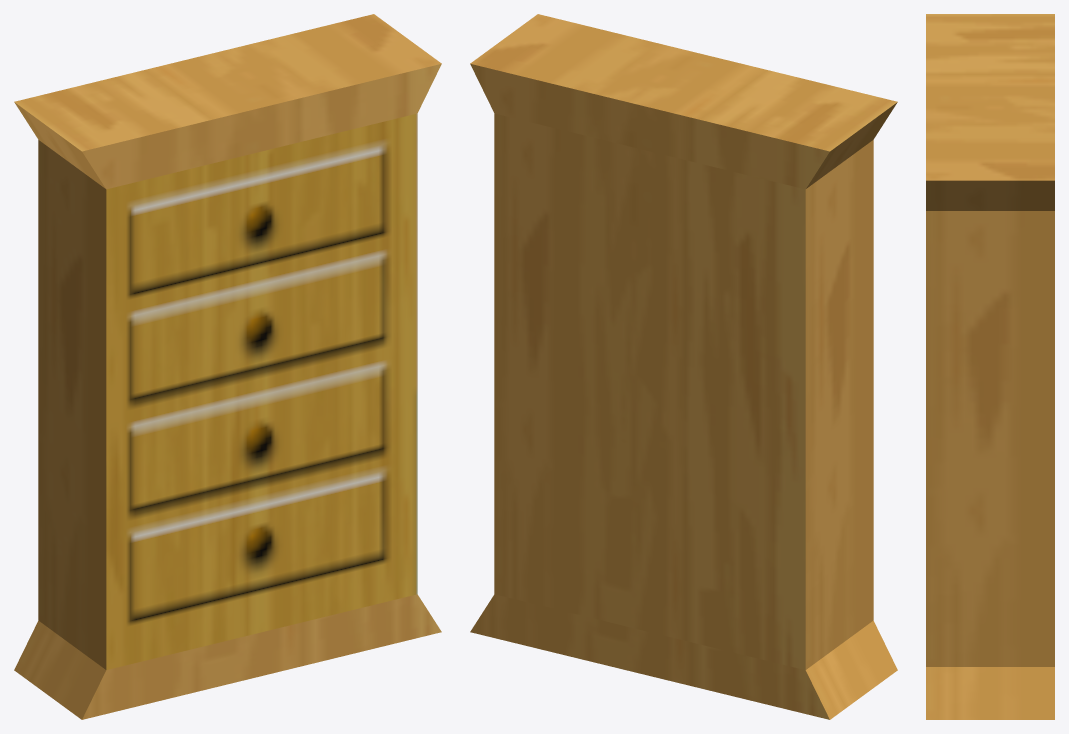
The model's file is SlimDresser.fbx.
The picture shows the model from 3 angles, left to right: view 1: azimuth 30°, elevation 25°; view 2: azimuth 150°, elevation 25°; view 3: azimuth 270°, elevation 25°; orthographic projection. The views are drawn at different scales.
Visible parts, largest first — view 1: Maya_File_Assets:TexturedAssetsCurrent:JohnPepper02Assets:Me; view 2: Maya_File_Assets:TexturedAssetsCurrent:JohnPepper02Assets:Me; view 3: Maya_File_Assets:TexturedAssetsCurrent:JohnPepper02Assets:Me.
Boxes of the visible parts, x1,y1,x2,y2 form: Maya_File_Assets:TexturedAssetsCurrent:JohnPepper02Assets:Me: (14, 14, 441, 719); Maya_File_Assets:TexturedAssetsCurrent:JohnPepper02Assets:Me: (470, 14, 897, 719); Maya_File_Assets:TexturedAssetsCurrent:JohnPepper02Assets:Me: (926, 14, 1054, 719).
Size of the model in its own units: 0.7442 by 1.12 by 0.2432.
